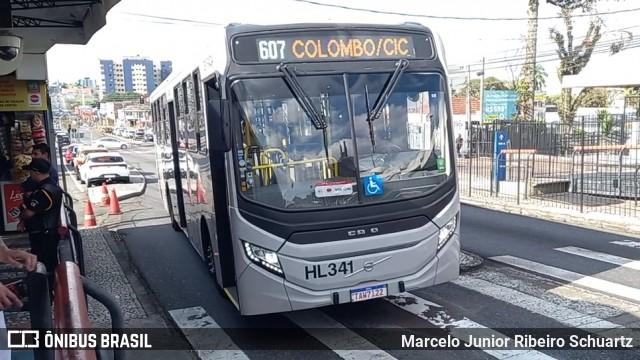COLOMBO CIC: (288, 34, 413, 61)
